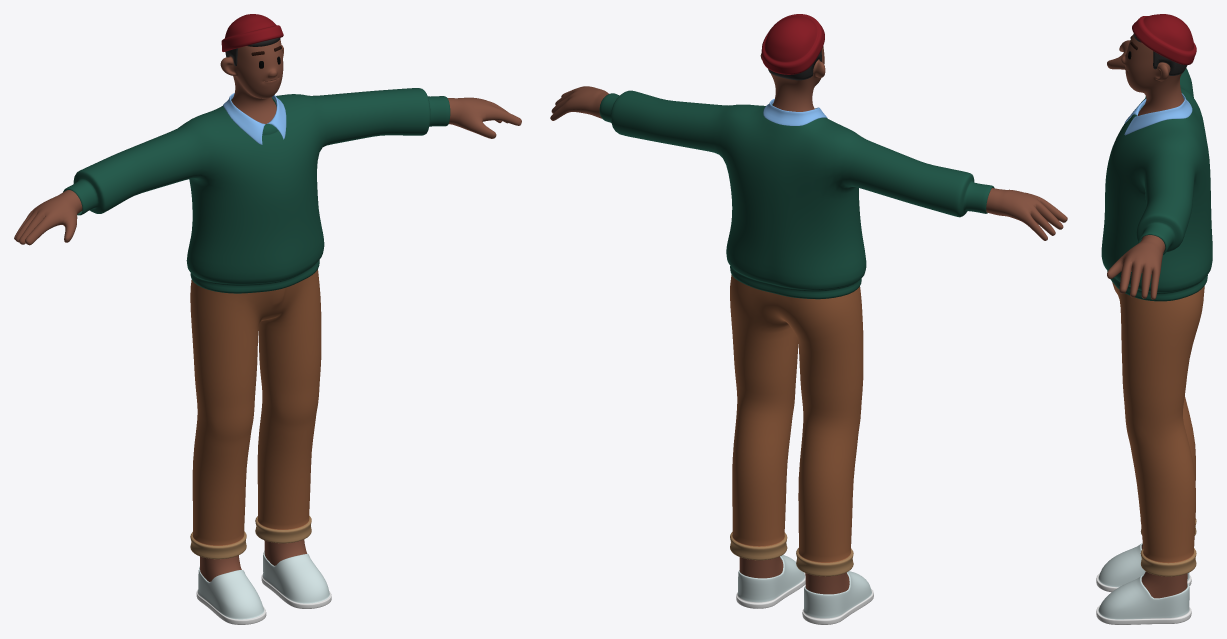
Rendered from boy.glb.
The picture shows the model from 3 angles, left to right: view 1: azimuth 30°, elevation 25°; view 2: azimuth 150°, elevation 25°; view 3: azimuth 270°, elevation 25°; orthographic projection.
Parts seen in each view (by area): view 1: BADAN.002, BADAN.004, BADAN, BADAN.006, Sphere; view 2: BADAN.002, BADAN.004, BADAN, BADAN.006, Sphere; view 3: BADAN.004, BADAN.002, BADAN, BADAN.006, Sphere, BADAN.003.
Boxes of the visible parts, x1,y1,x2,y2 form: BADAN.002: (63,88,450,293); BADAN.004: (190,269,321,559); BADAN: (14,39,521,581); BADAN.006: (196,551,331,624); Sphere: (221,14,283,51); BADAN.002: (599,90,994,299); BADAN.004: (730,274,863,576); BADAN: (550,46,1067,594); BADAN.006: (736,555,873,624); Sphere: (761,14,824,74); BADAN.004: (1112,282,1204,576); BADAN.002: (1101,68,1212,301); BADAN: (1107,34,1187,598); BADAN.006: (1096,543,1191,624); Sphere: (1132,14,1196,65); BADAN.003: (1133,33,1187,75).
Bounding box in the file's own units: 1.47 × 1.62 × 0.2933.
